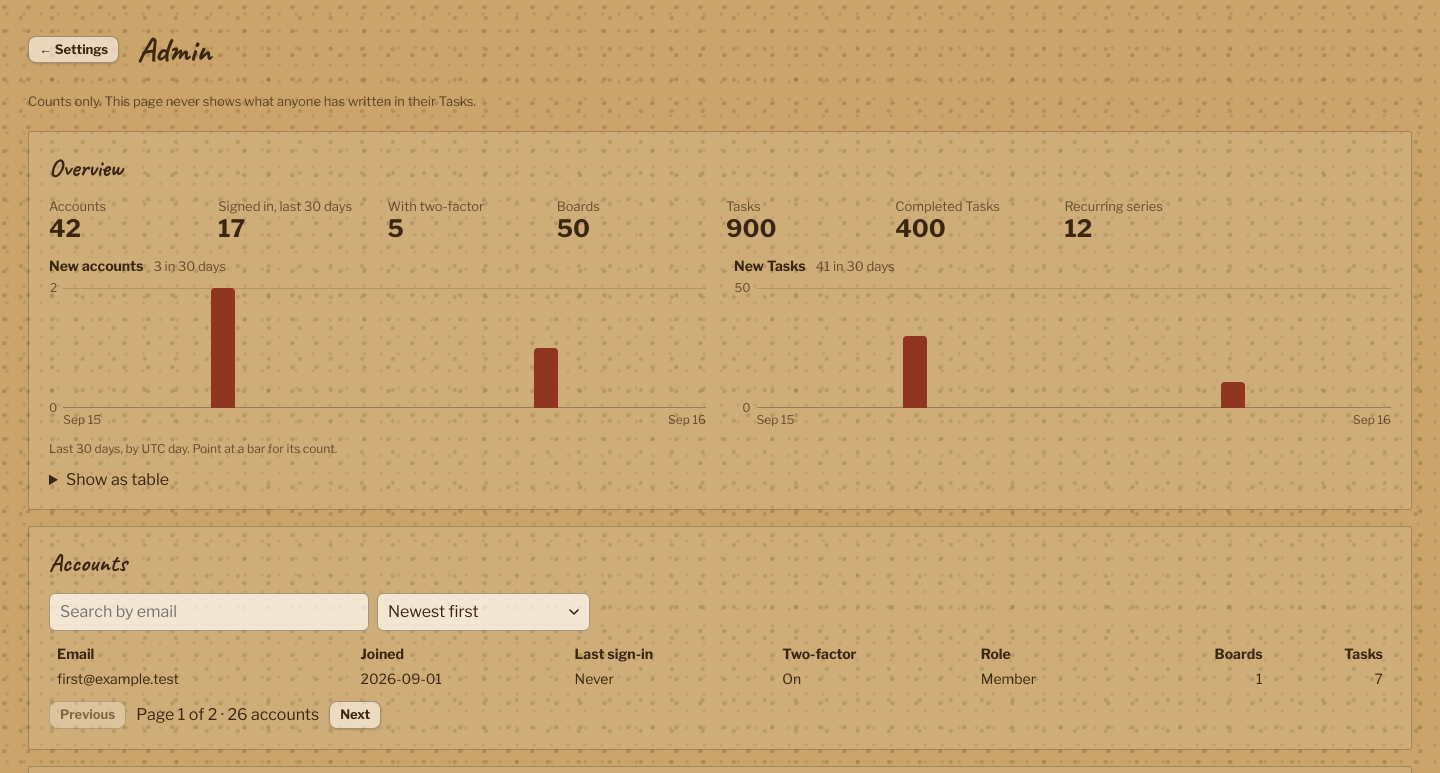
it: a page emptied by deletions offers a way back instead of a wrong total
The width and height of the screenshot is (1440, 773).
Click the button "Next": [355, 715] box [329, 701, 381, 729]
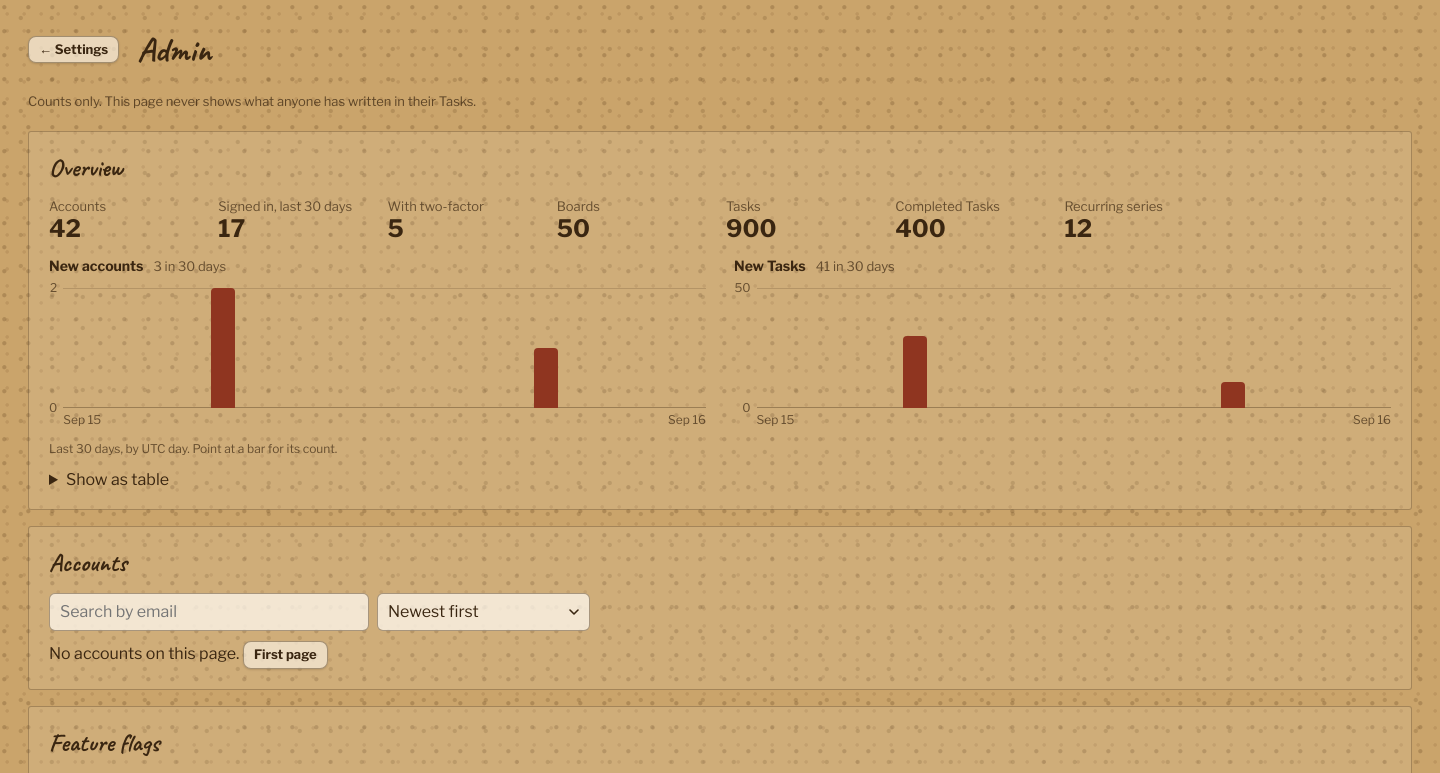
Check: the text "No accounts on this page. First page" is shown, box [49, 641, 328, 669]
Click the button "First page": [285, 655] box [243, 641, 328, 669]
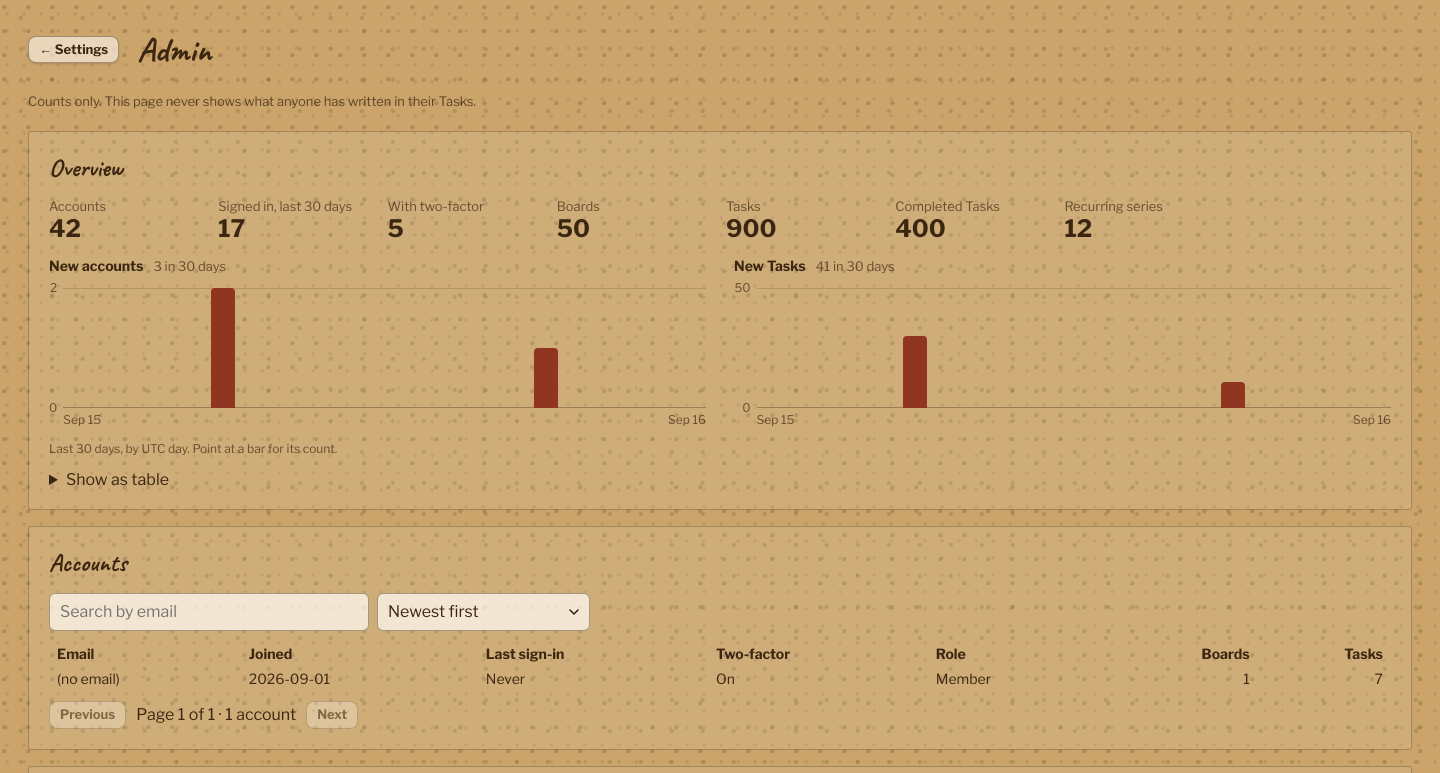
Check: the text "(no email)" is shown, box [49, 666, 241, 691]
